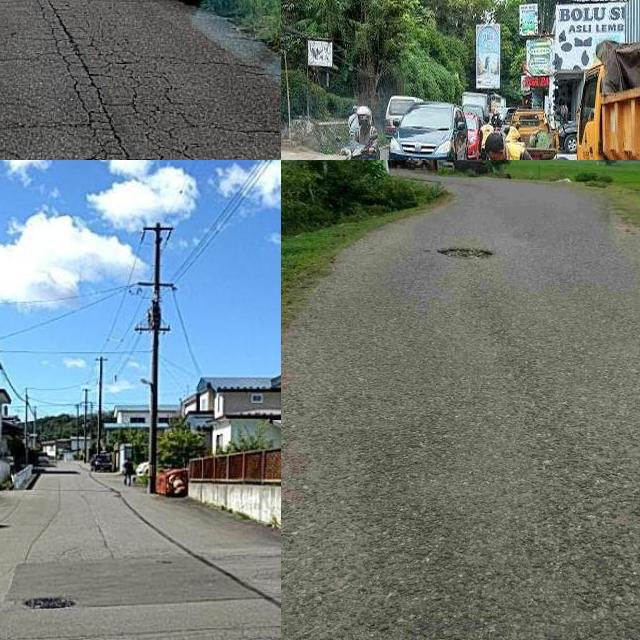Lubang: (424, 240, 498, 268)
Retak Buaya: (0, 0, 226, 160)
Sambungan: (6, 553, 266, 613)
